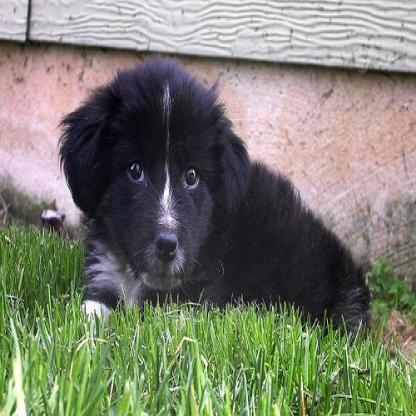Tibetan_mastiff: (51, 42, 372, 344)
